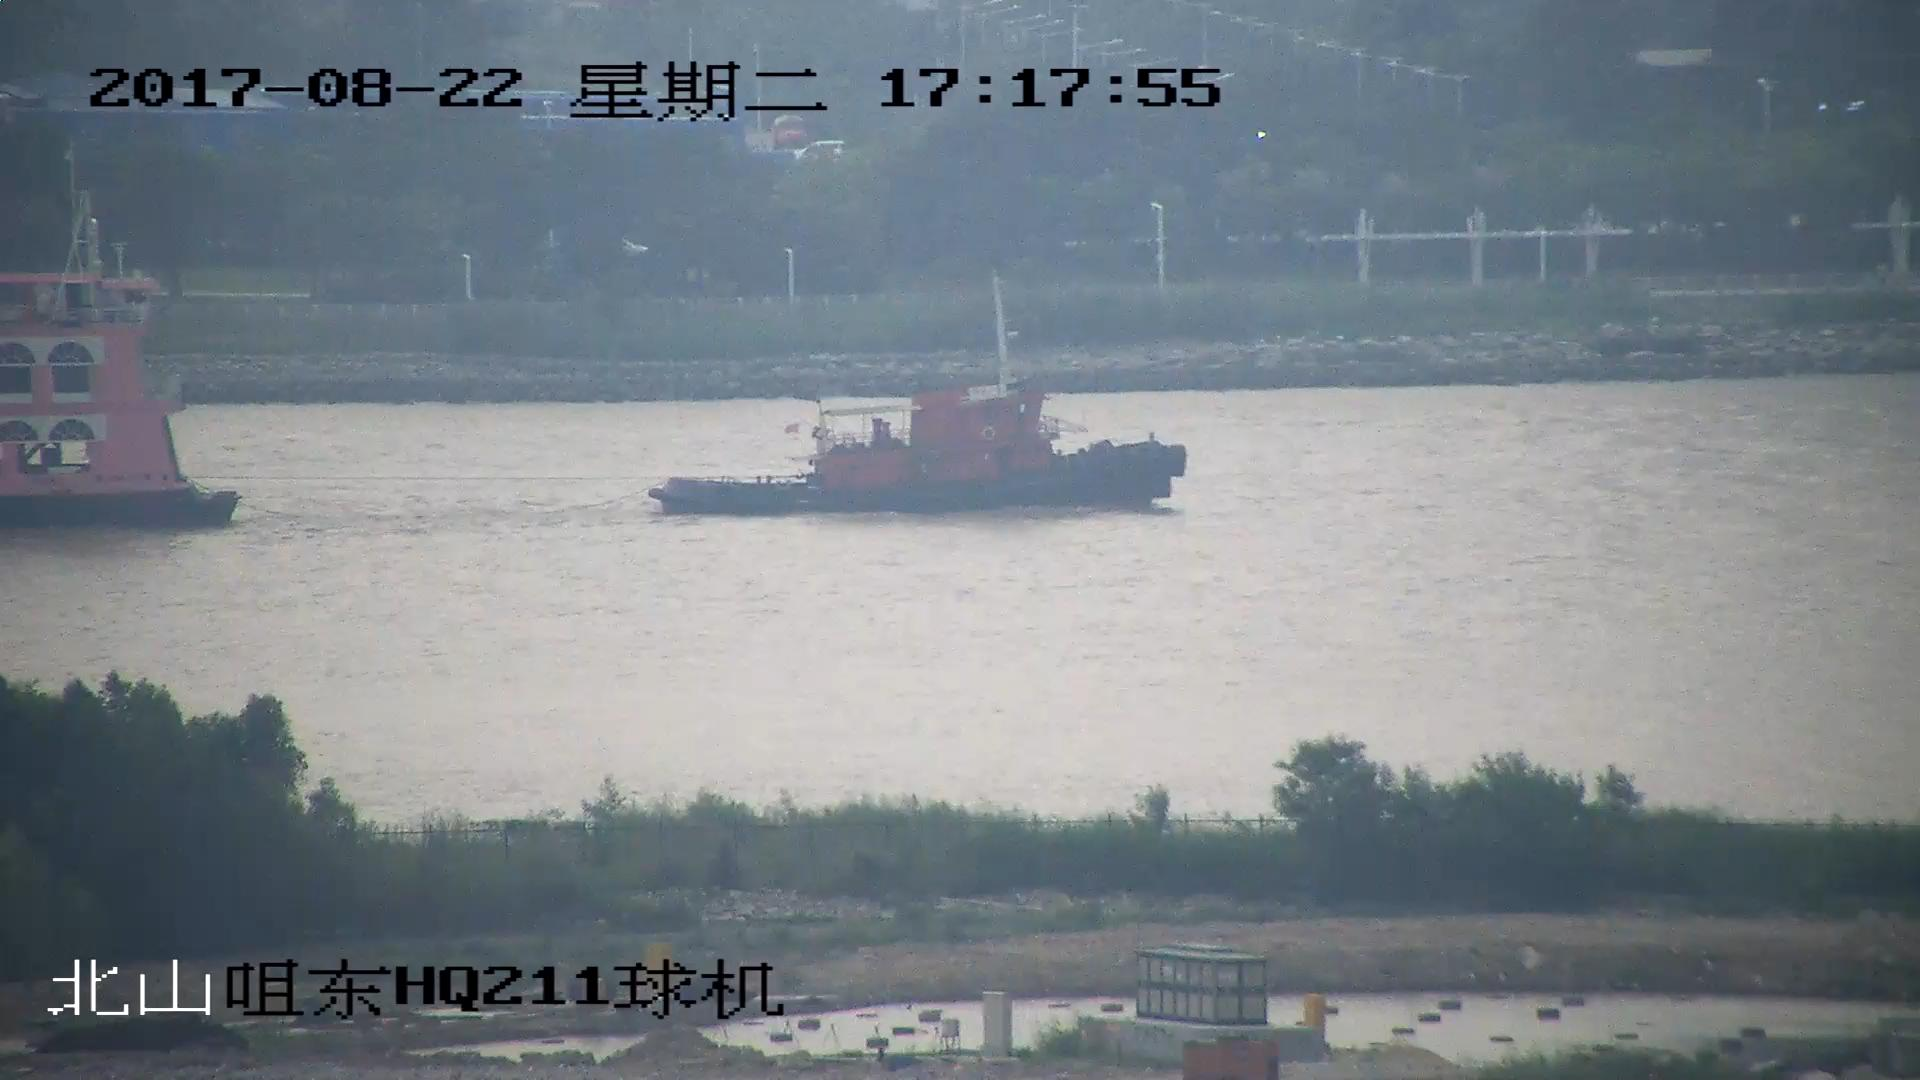fishing boat: (647, 277, 1187, 516)
passenger ship: (1, 142, 241, 528)
